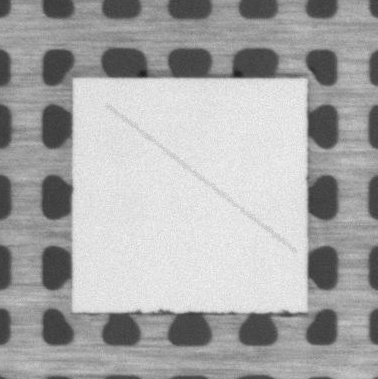DIE_CRACK: (108, 106, 295, 252)
